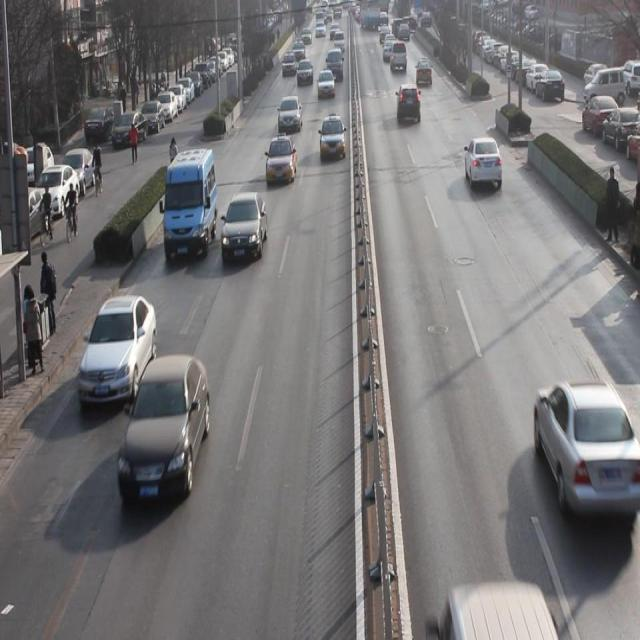car: (534, 383, 640, 522), (116, 366, 212, 506), (78, 299, 157, 403), (221, 192, 268, 268), (464, 136, 504, 192), (265, 135, 298, 189), (319, 114, 347, 164), (398, 84, 421, 126), (278, 96, 302, 136), (316, 69, 336, 100), (296, 58, 314, 87), (281, 52, 298, 77)
truck: (162, 148, 218, 262), (326, 49, 344, 84)
